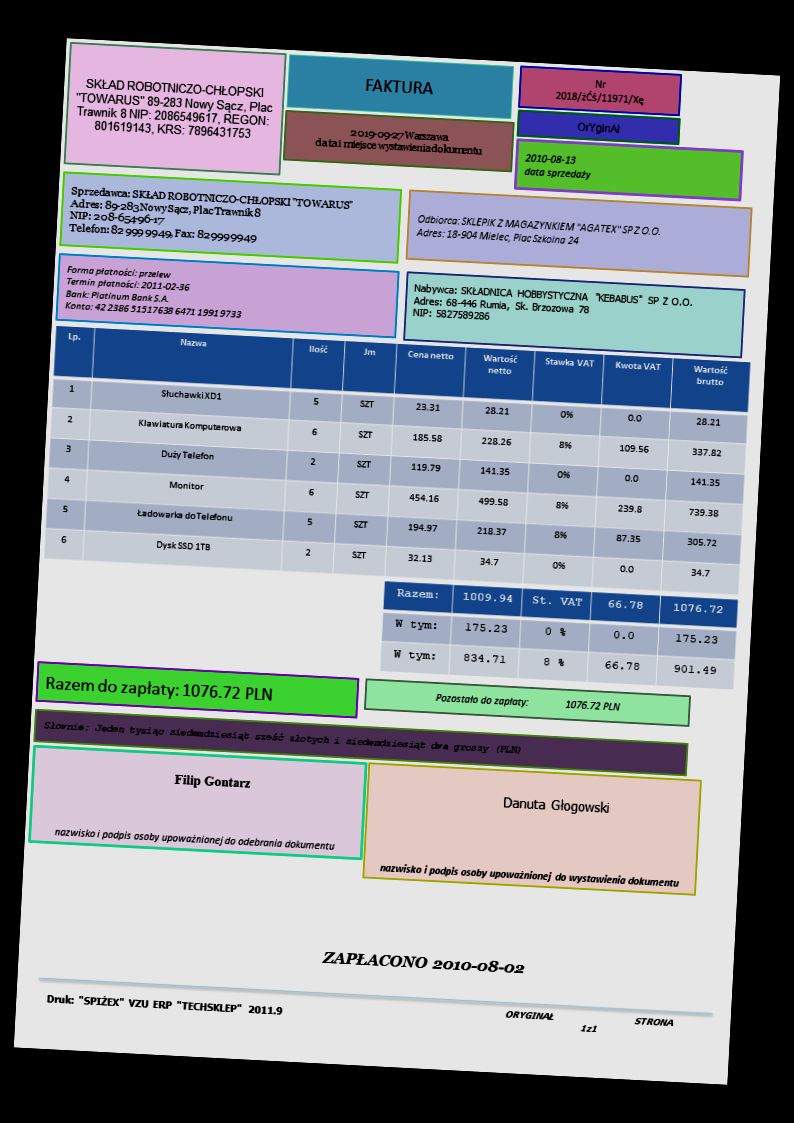Table: (42, 324, 750, 596), (379, 580, 740, 691)
TextBox: (65, 182, 355, 250), (41, 718, 522, 757), (410, 281, 697, 333), (72, 76, 276, 142), (62, 262, 245, 322), (414, 212, 663, 252), (377, 859, 681, 890), (52, 825, 336, 853), (44, 672, 274, 705), (45, 991, 285, 1018), (317, 948, 528, 978), (312, 124, 487, 158), (503, 1008, 677, 1039), (434, 690, 623, 714), (553, 76, 647, 108), (501, 795, 611, 818), (522, 150, 594, 182), (362, 75, 435, 99), (172, 771, 252, 791), (574, 118, 622, 137)
